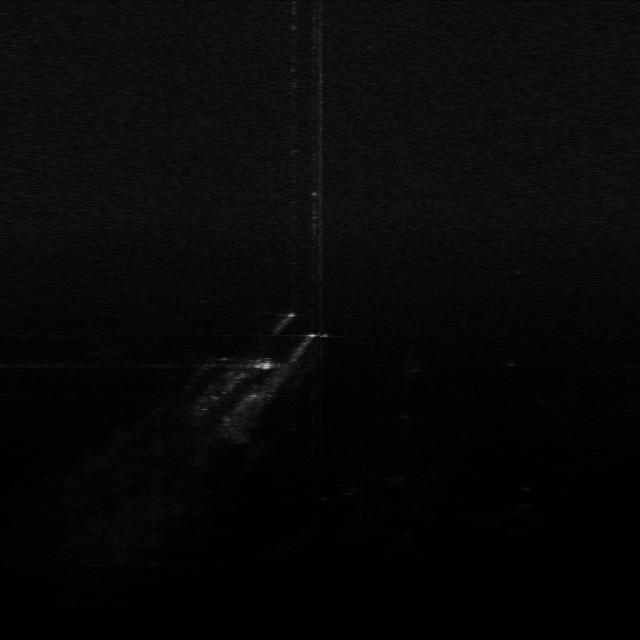rov: (248, 357, 276, 374)
